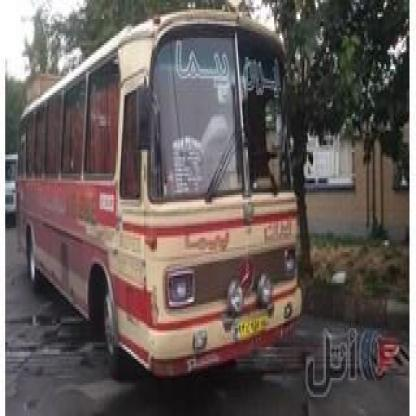Bus: (17, 12, 303, 375), (2, 155, 18, 219)
